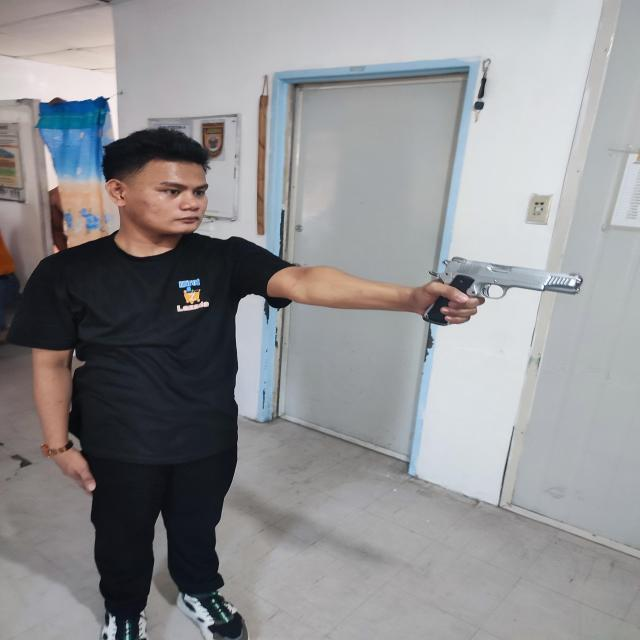pistol: (422, 256, 582, 324)
